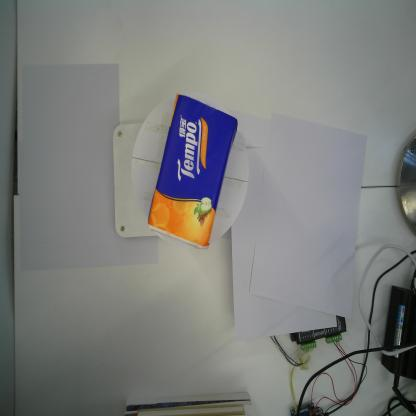Tissue: (148, 92, 239, 249)
